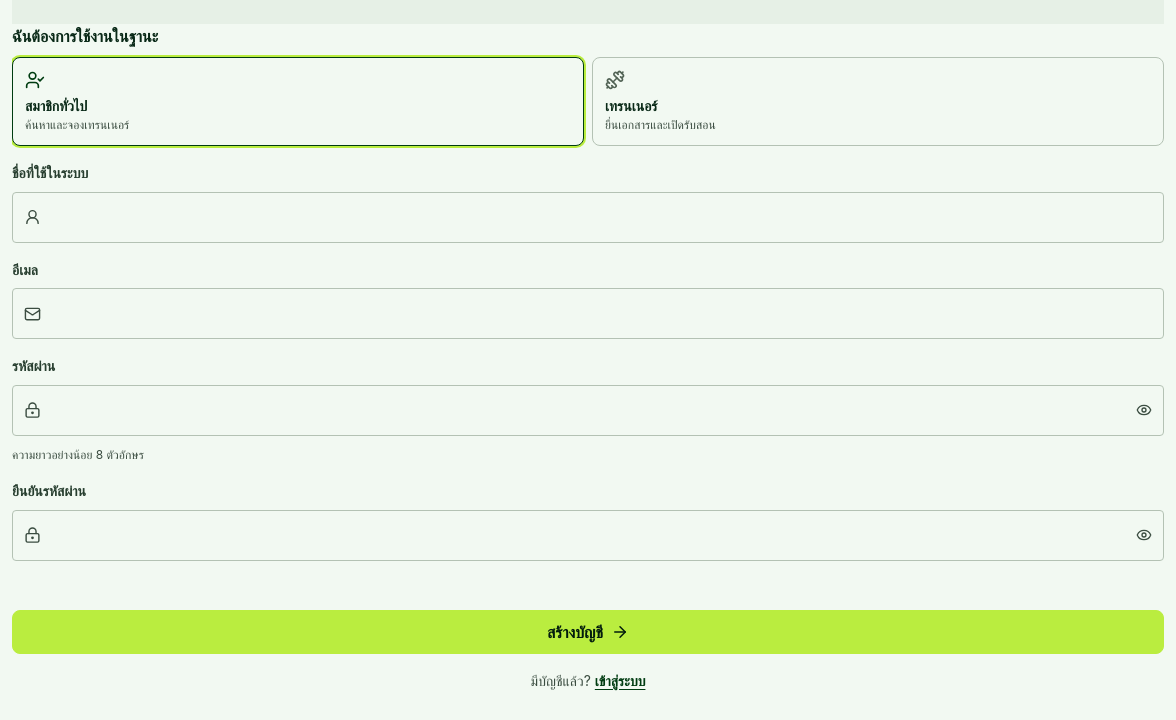
it: AuthForm trainer onboarding and enhanced UX › blocks an invalid email and a short password before sending
The width and height of the screenshot is (1176, 720).
Type "สมาชิกทดสอบ" into the field labelled "ชื่อที่ใช้ในระบบ" at {"x": 588, "y": 217}, box [12, 192, 1164, 243]
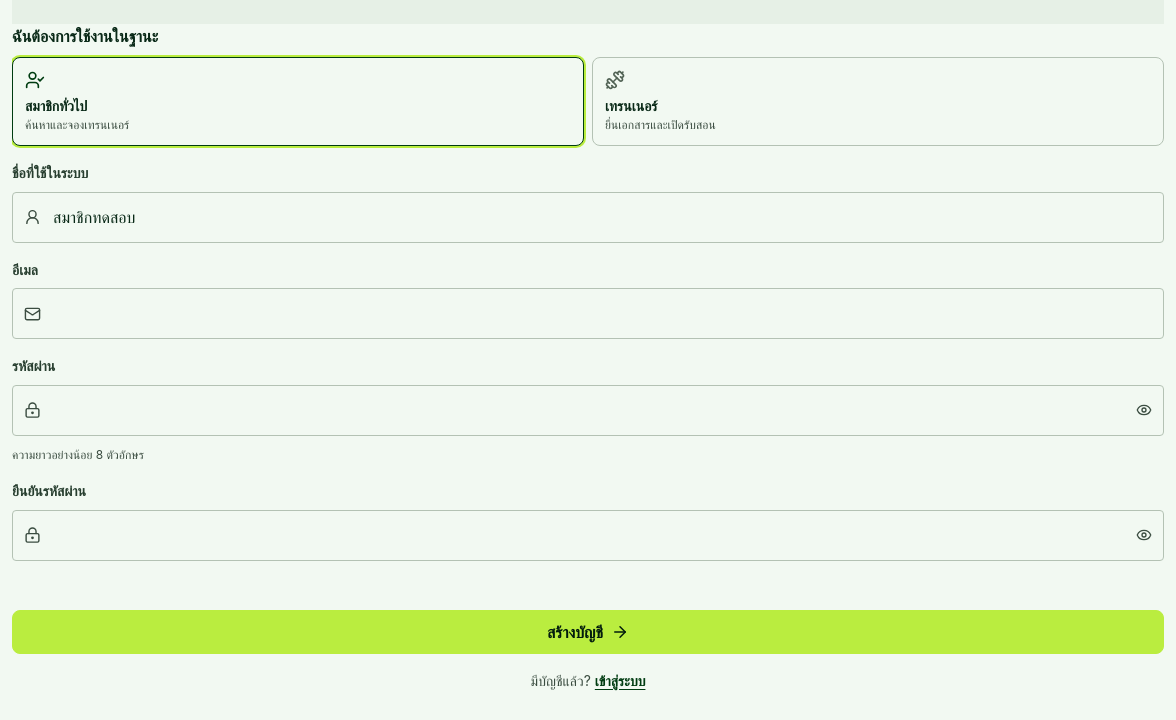
Type "not-an-email" into the field labelled "อีเมล" at {"x": 588, "y": 314}, box [12, 288, 1164, 339]
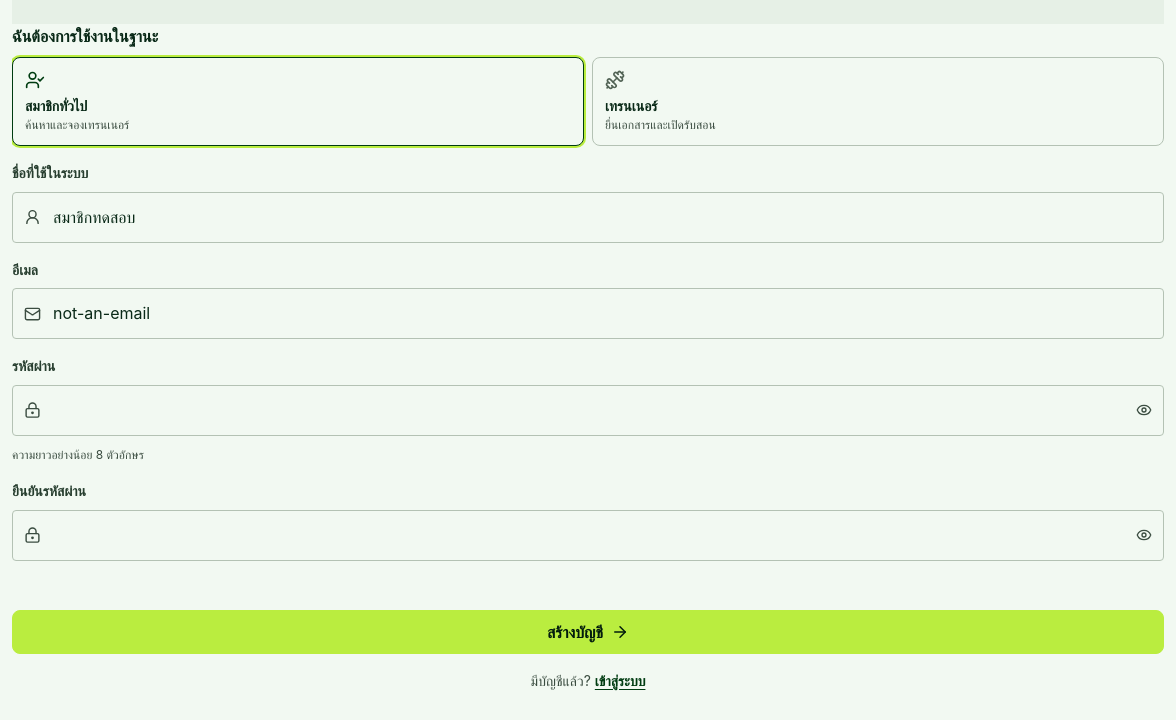
Type "short" into the password field labelled "รหัสผ่าน" at {"x": 588, "y": 410}, box [12, 385, 1164, 436]
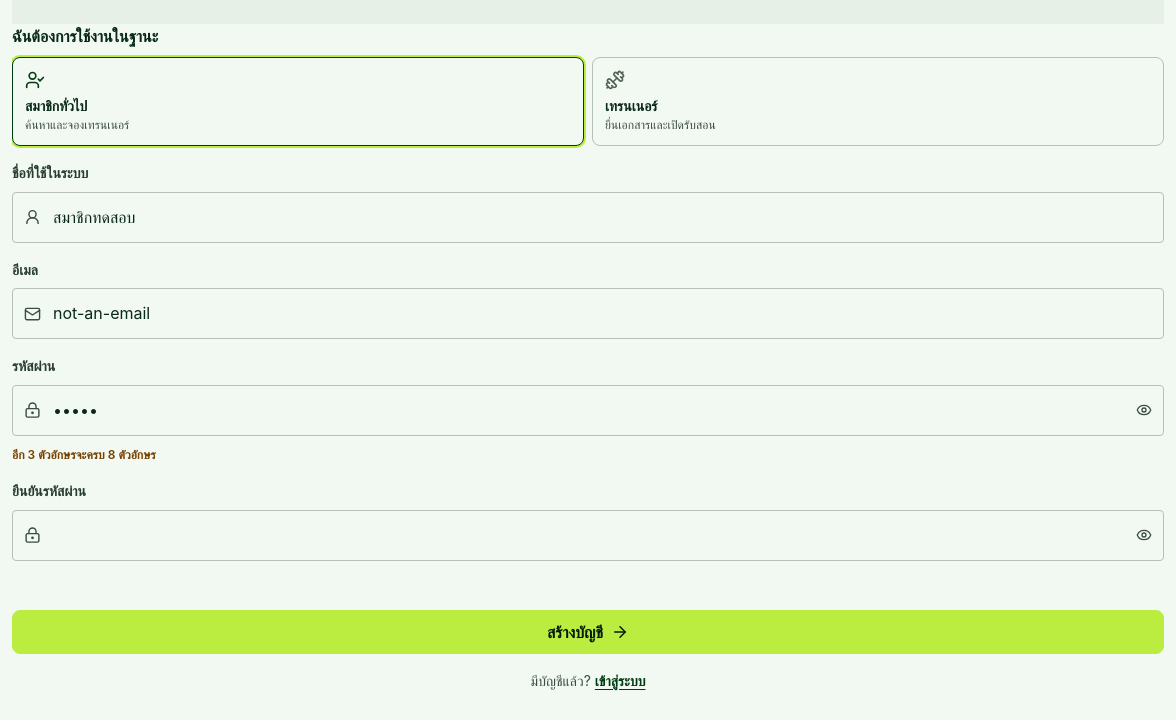
Type "short" into the password field labelled "ยืนยันรหัสผ่าน" at {"x": 588, "y": 535}, box [12, 510, 1164, 561]
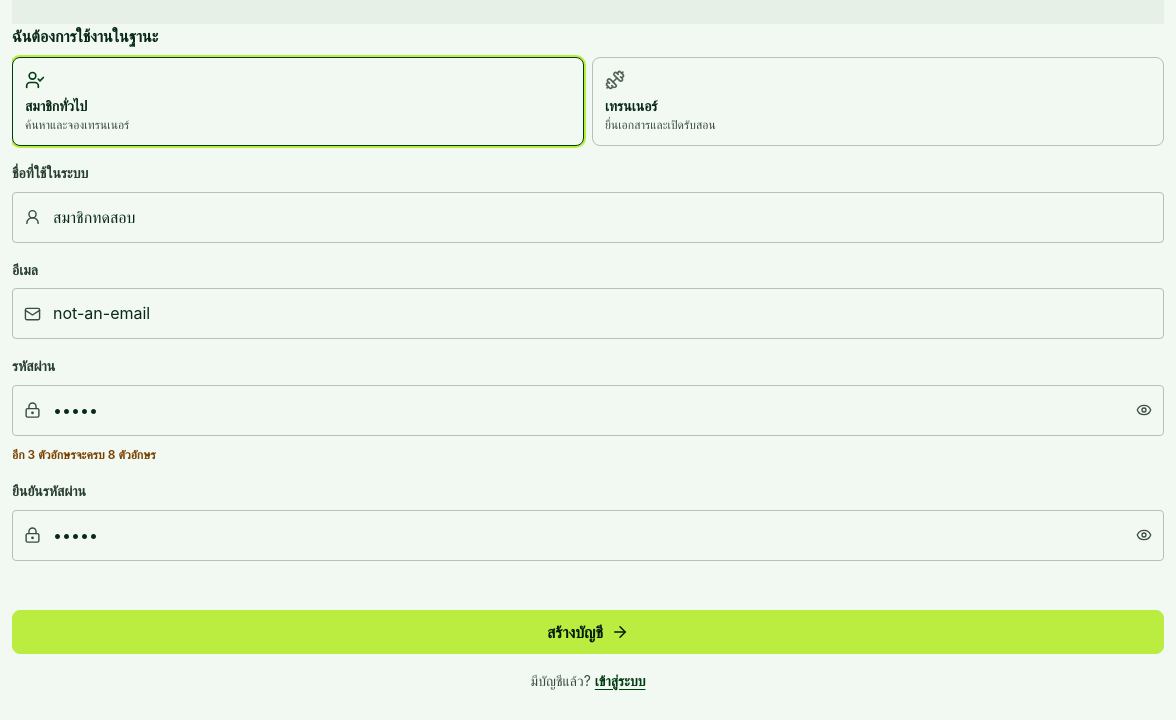
Submit the form named "สร้างบัญชี"
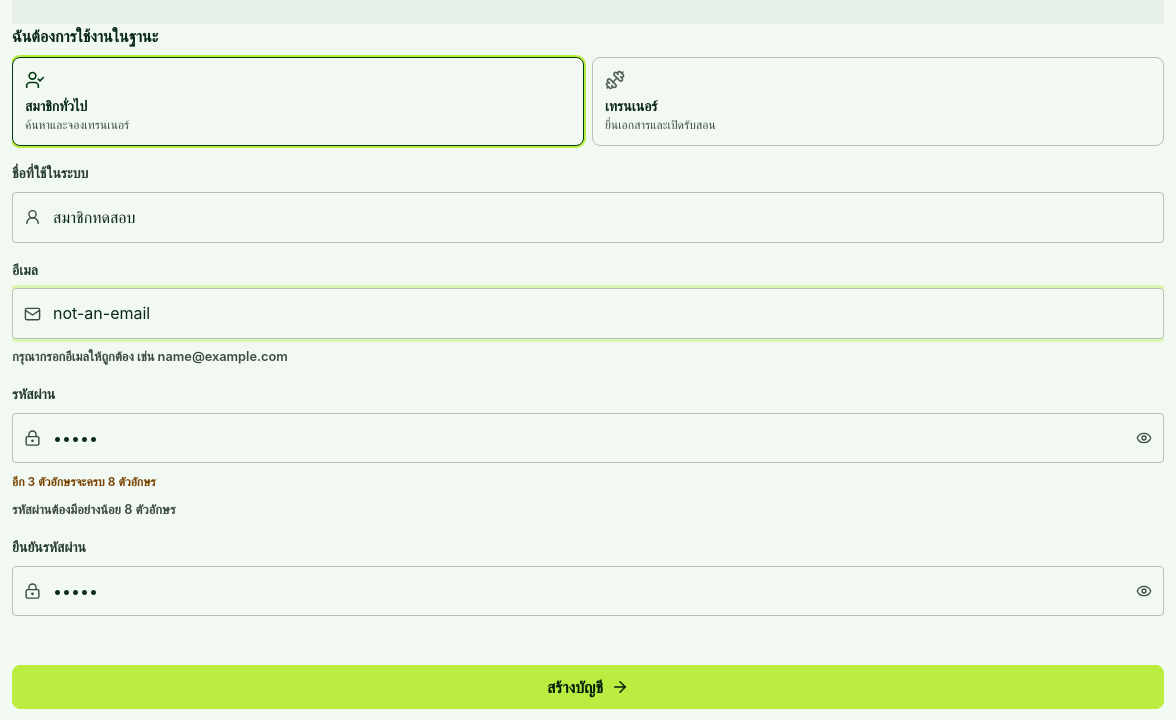
Expected: the text "กรุณากรอกอีเมลให้ถูกต้อง เช่น name@example.com" is shown, [12, 349, 288, 364]
Expected: the text "รหัสผ่านต้องมีอย่างน้อย 8 ตัวอักษร" is shown, [12, 502, 176, 517]
